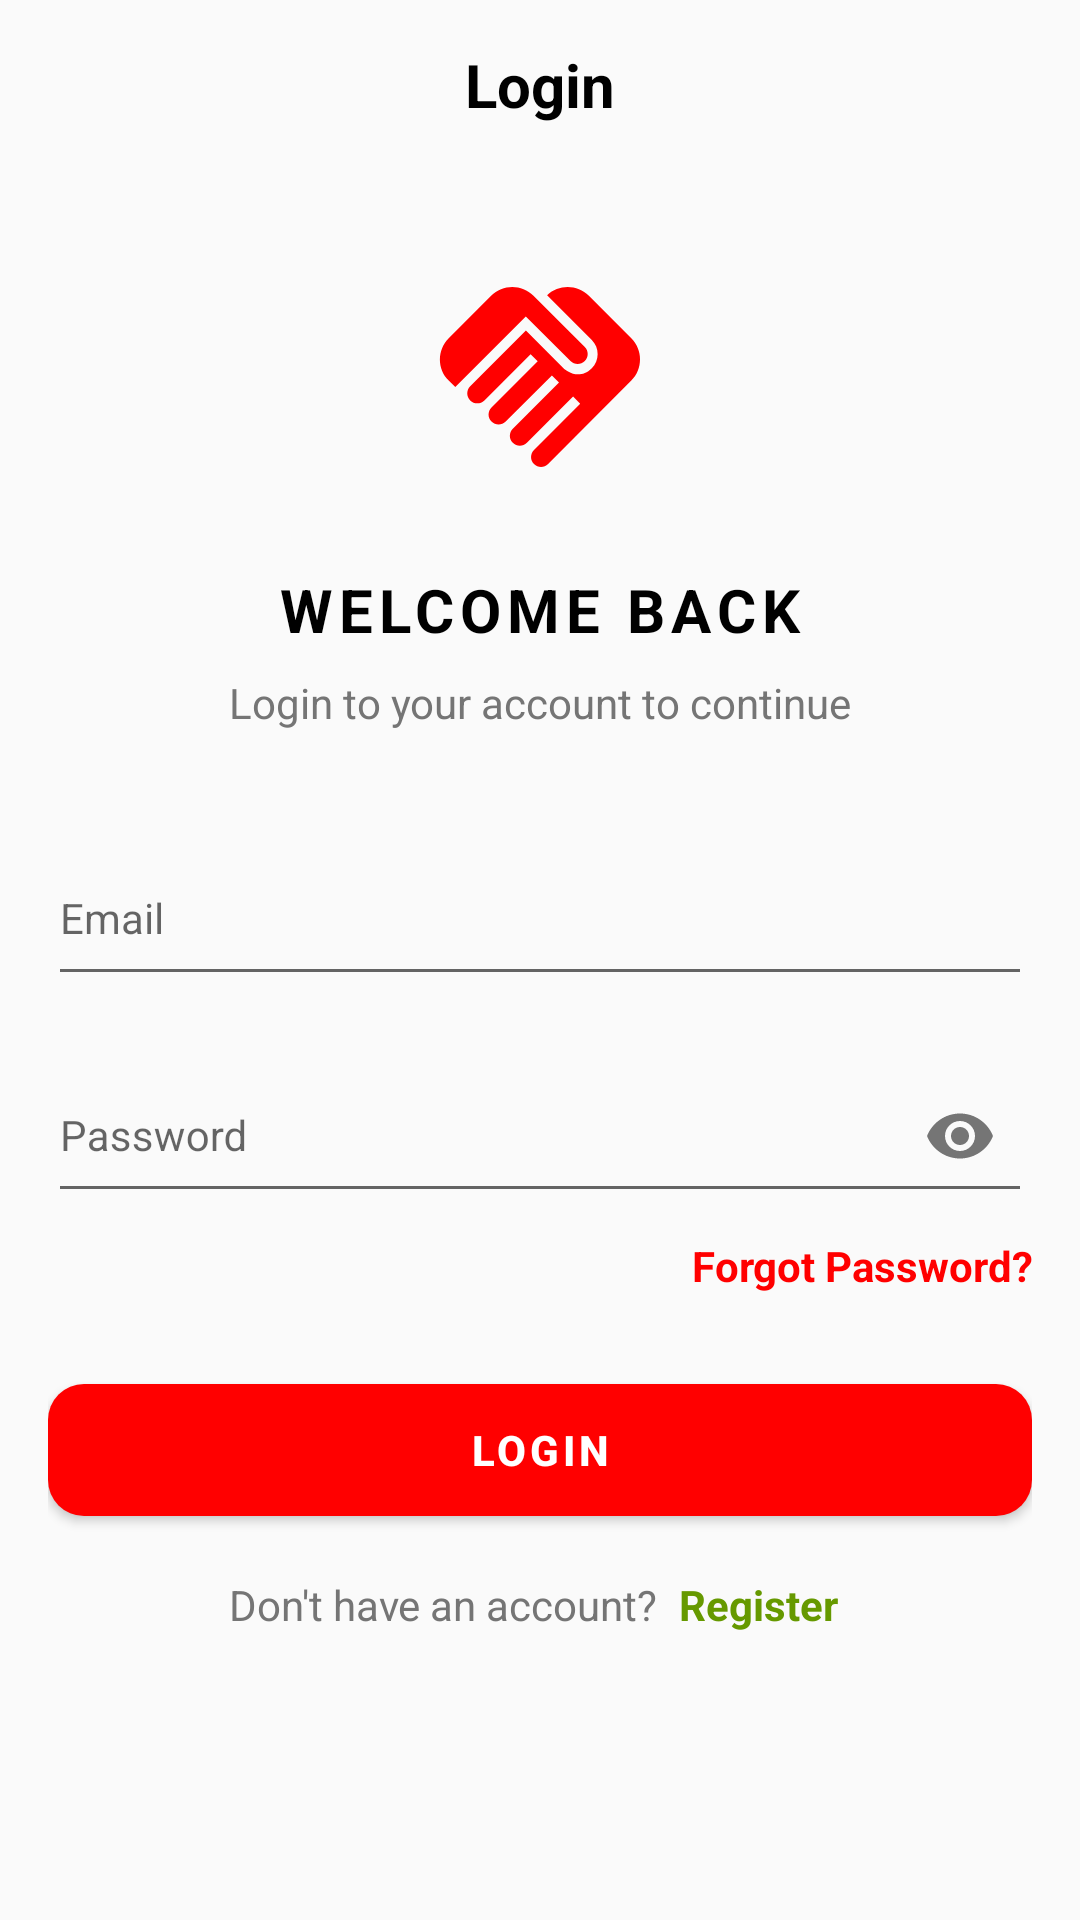

Where icons sit on this 1080px×1920px app screen, as (x1, y1, x2, y2):
Brand: (439, 287, 640, 467)
